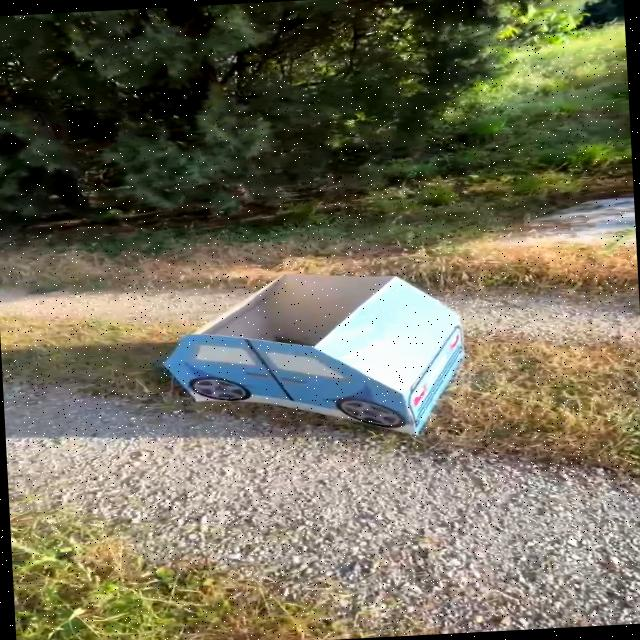blue_car: (90, 248, 520, 483)
